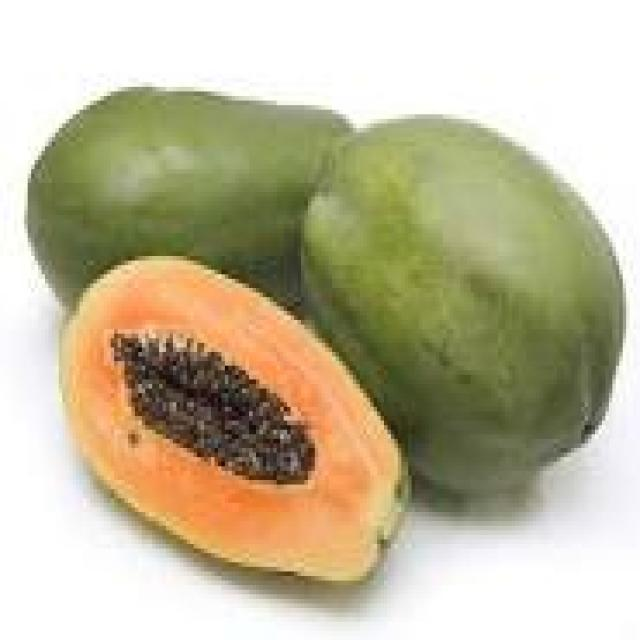papaya: (14, 64, 636, 608)
